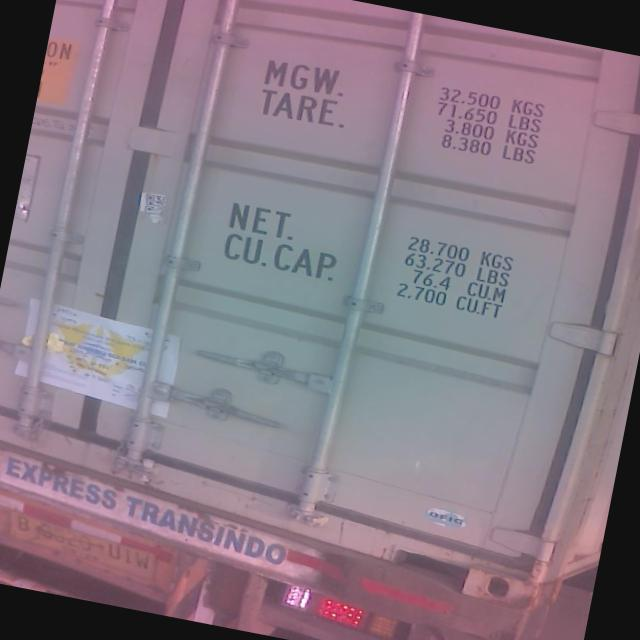seal: (133, 454, 160, 486)
